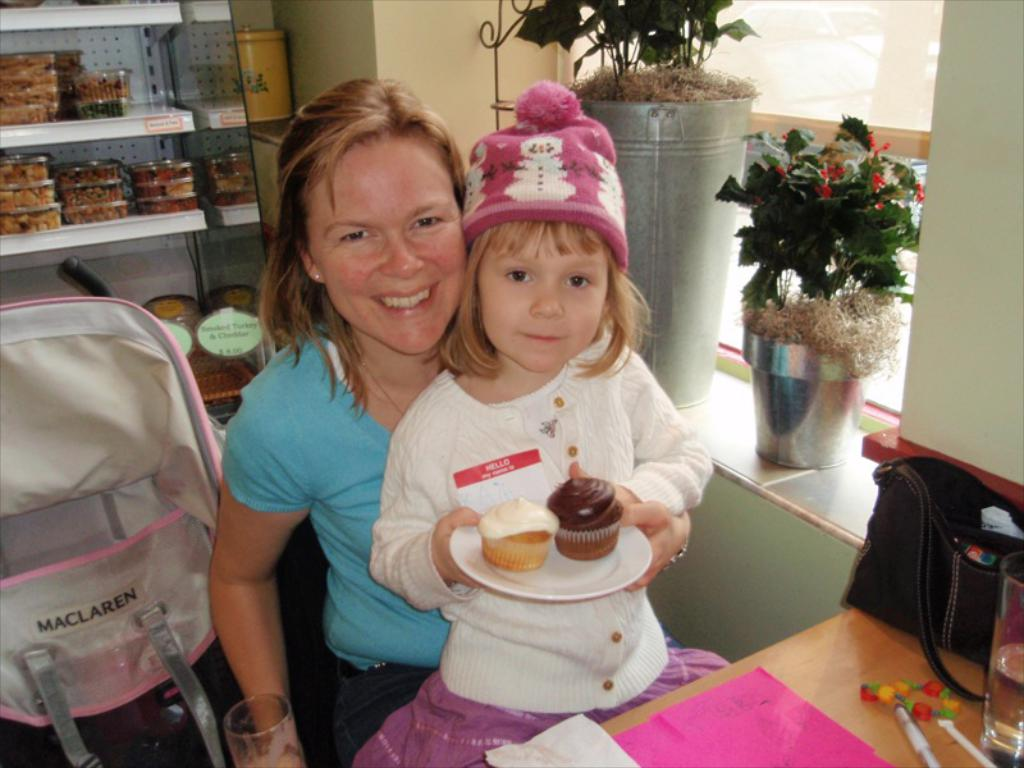cake: (549, 477, 628, 562), (476, 498, 561, 575)
